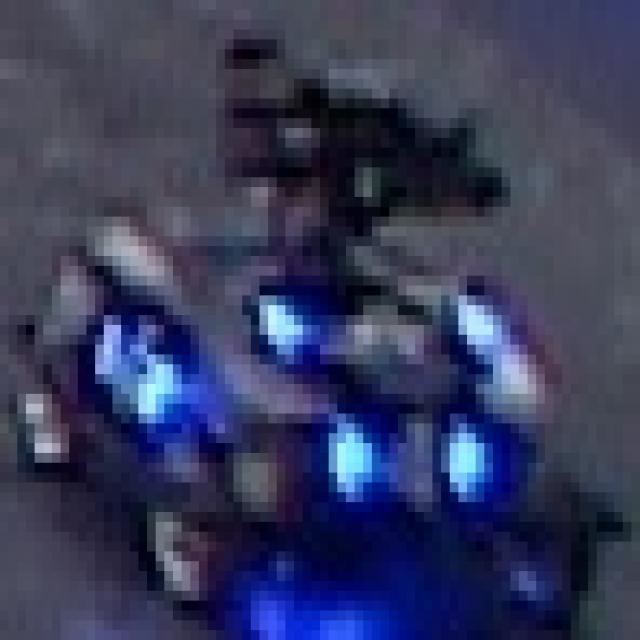B4: (286, 364, 510, 542)
